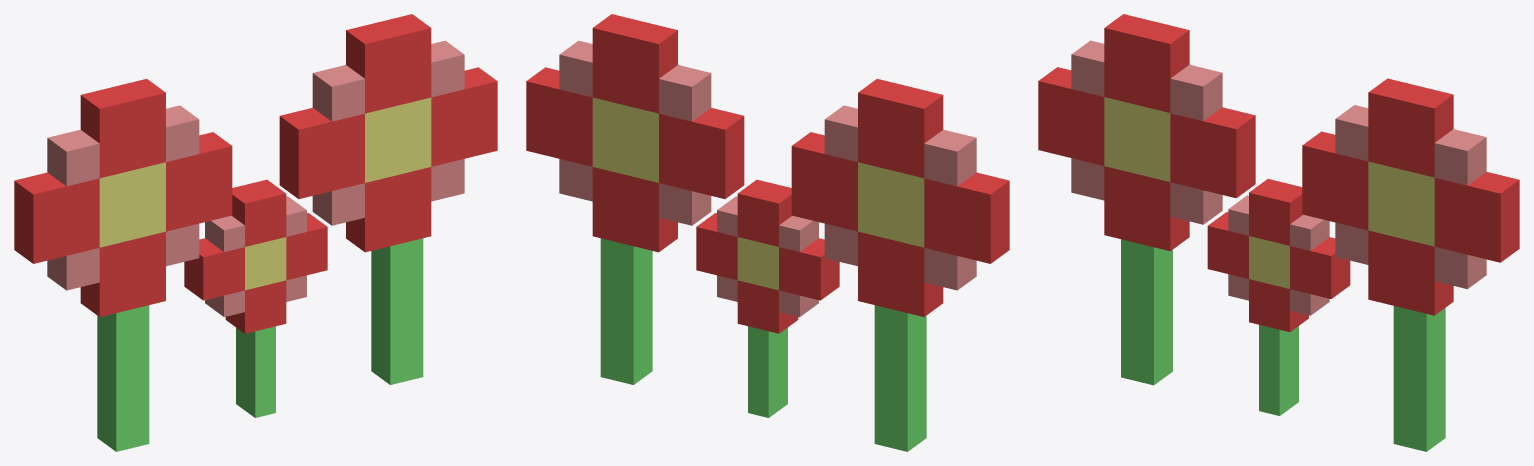
File: flowers.fbx
3 renders of one model, left to right at view 1: azimuth 30°, elevation 25°; view 2: azimuth 150°, elevation 25°; view 3: azimuth 330°, elevation 25°, orthographic.
Parts seen in each view (by area): view 1: flowers; view 2: flowers; view 3: flowers.
Boxes of the visible parts, x1,y1,x2,y2 form: flowers: (14, 14, 497, 451); flowers: (526, 14, 1009, 451); flowers: (1038, 14, 1519, 451).
Bounding box in the file's own units: 175 × 125 × 12.5.
